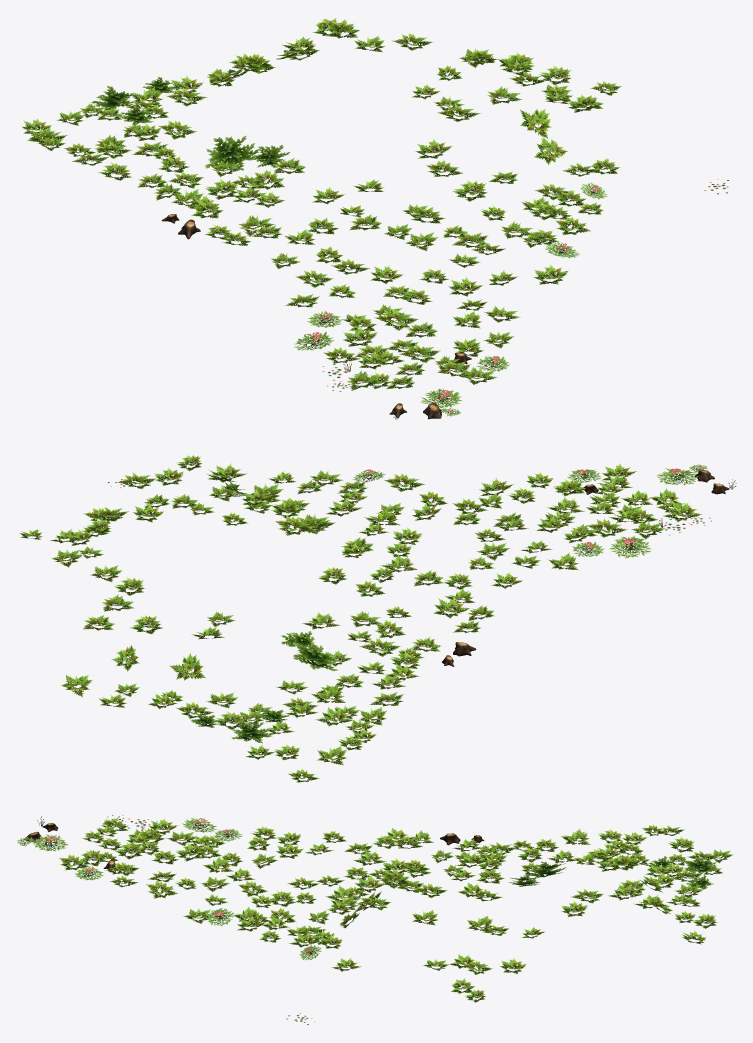
Rendered from Ferns_07.fbx.
3 renders of one model, top to bottom at view 1: azimuth 30°, elevation 25°; view 2: azimuth 150°, elevation 25°; view 3: azimuth 270°, elevation 25°, orthographic. The views are drawn at different scales.
Visible parts, largest first — view 1: Ferns_07; view 2: Ferns_07; view 3: Ferns_07.
Boxes of the visible parts, x1,y1,x2,y2 form: Ferns_07: (21, 18, 728, 419); Ferns_07: (20, 455, 736, 782); Ferns_07: (17, 815, 733, 1024).
Size of the model in its own units: 7106 by 1550 by 10063.
